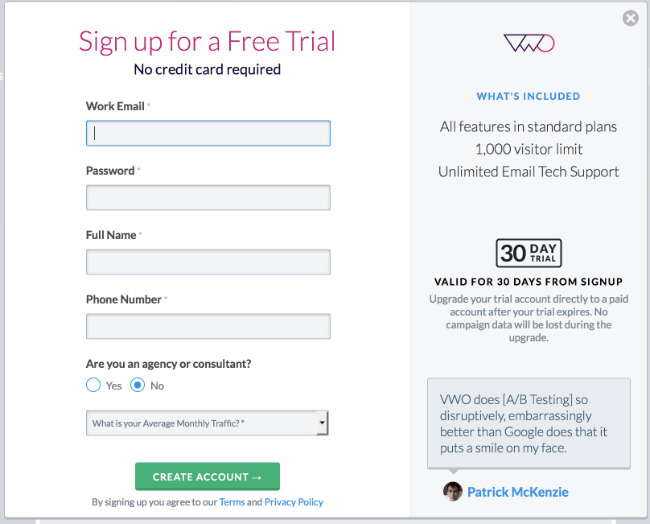_form_: (1, 86, 416, 502)
button: (134, 462, 281, 491)
field: (83, 183, 332, 212), (84, 247, 333, 276), (83, 311, 332, 340), (83, 119, 331, 147)
field_with_label: (80, 100, 333, 148), (81, 165, 334, 213), (81, 293, 334, 341), (83, 229, 334, 277)
radio: (85, 376, 103, 393), (130, 376, 148, 393)
radio_with_label: (83, 373, 123, 394), (128, 374, 166, 395)
select: (85, 410, 329, 437)
